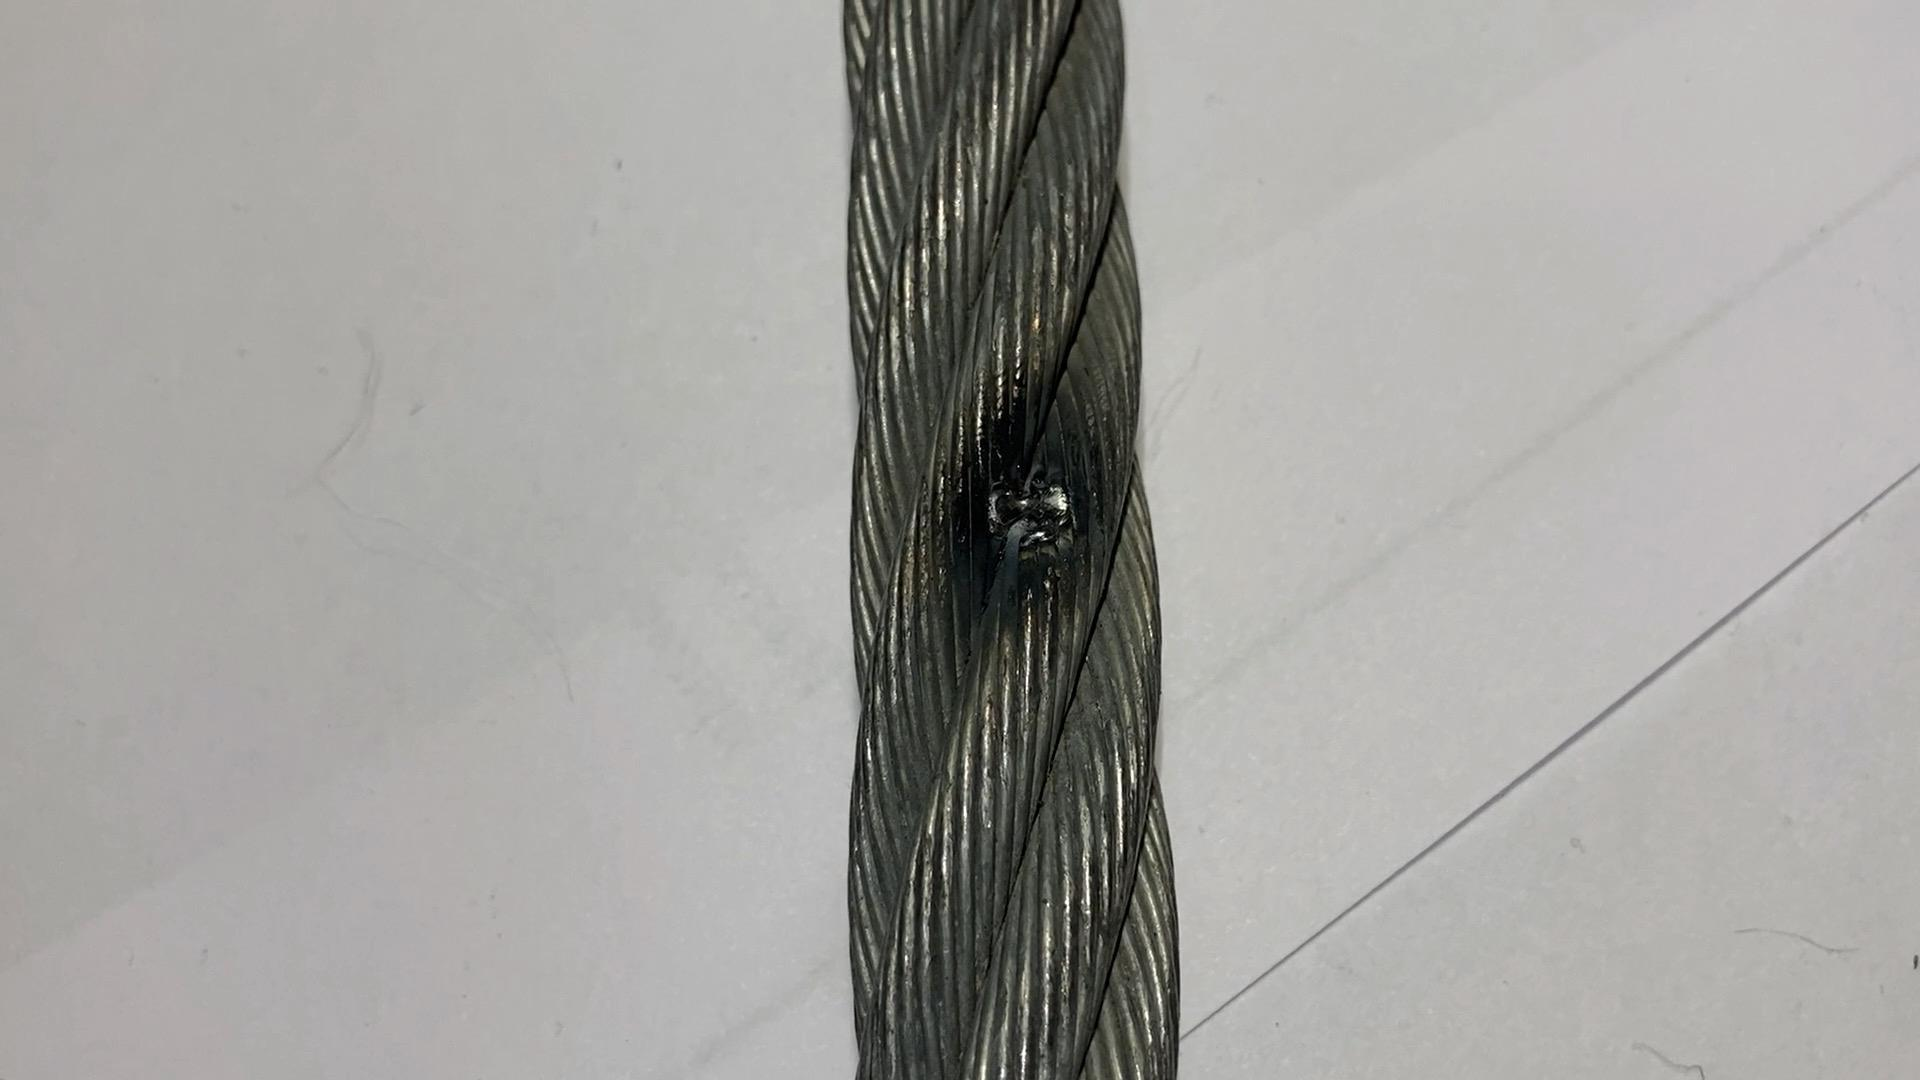thunderbolt: (961, 443, 1097, 559)
